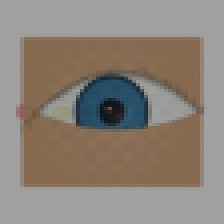pinguecula_lesion: (40, 96, 84, 131)
